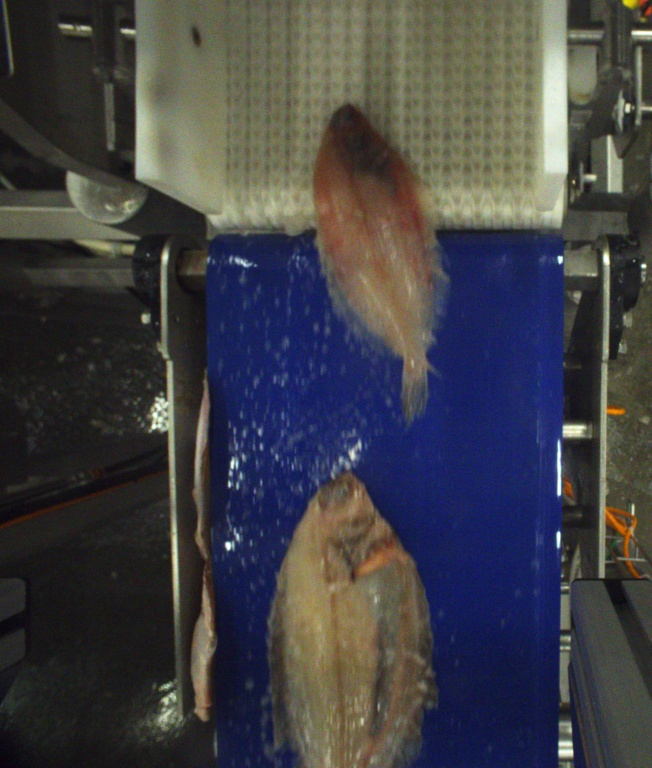WIT: (267, 469, 435, 768)
